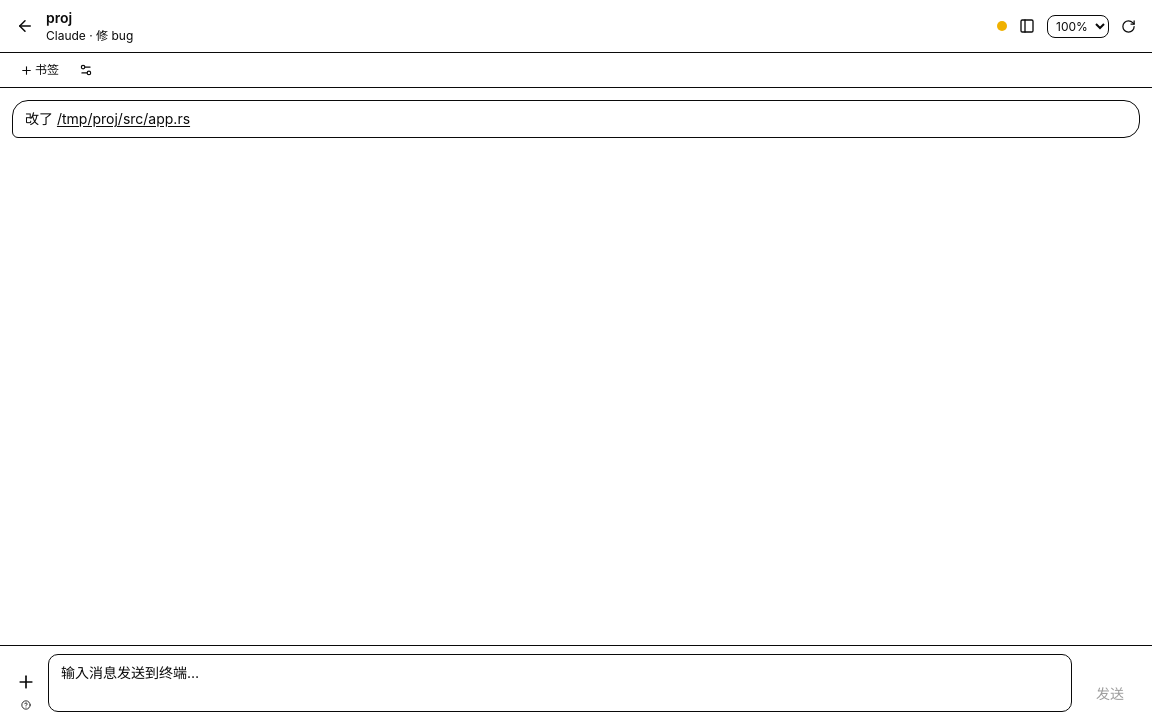
Test: SessionDetail：文件链接化与预览联动 › Task 2：面板挂载复用详情页已拉的提取结果，切档才重拉（scope→limit）
// 打开面板不重拉（复用挂载结果）
What coordinates should you click on to do the following:
click the button with test id "file-panel-button"
I would click on:
 (1027, 26)
Its box is x1=1015 y1=14 x2=1039 y2=38.
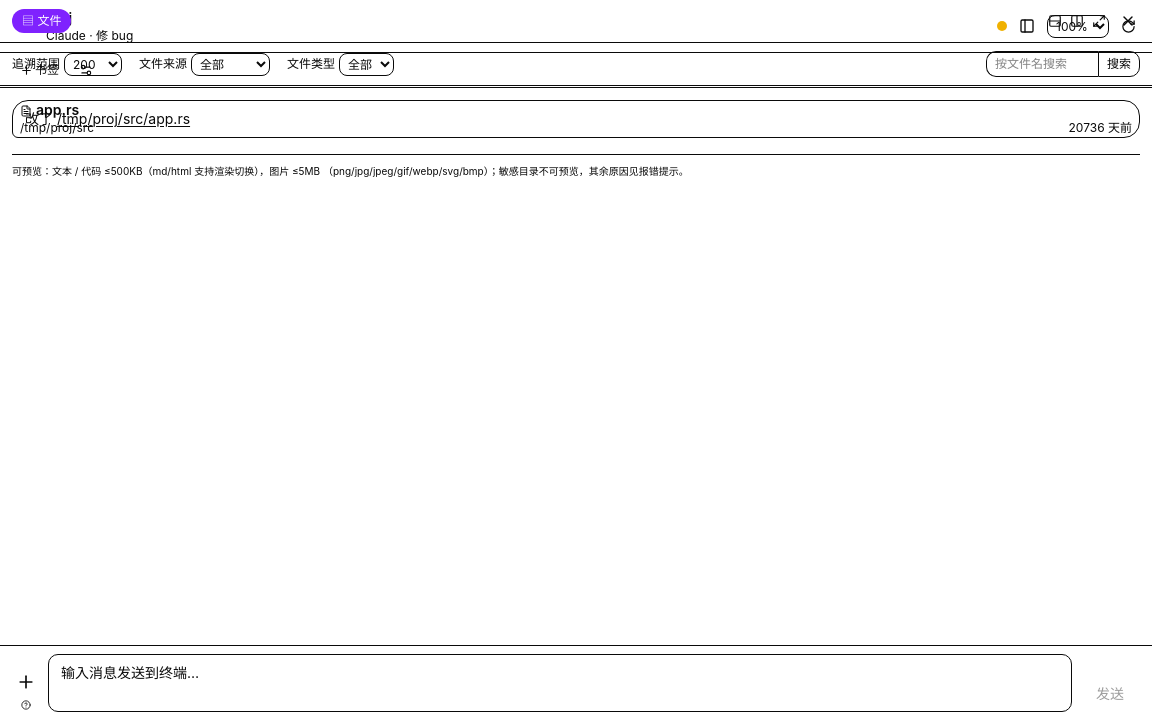
Result: the element with test id "preview-shell" is shown at x1=0 y1=0 x2=1151 y2=179
